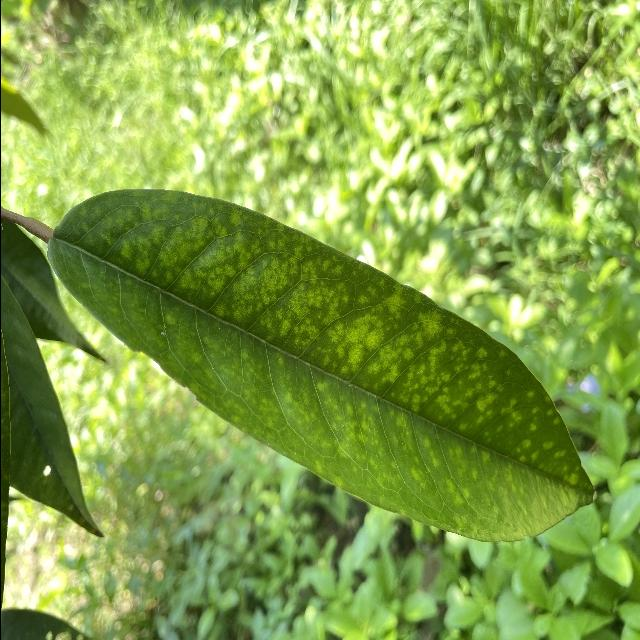Leaf Spot: (45, 183, 588, 545)
